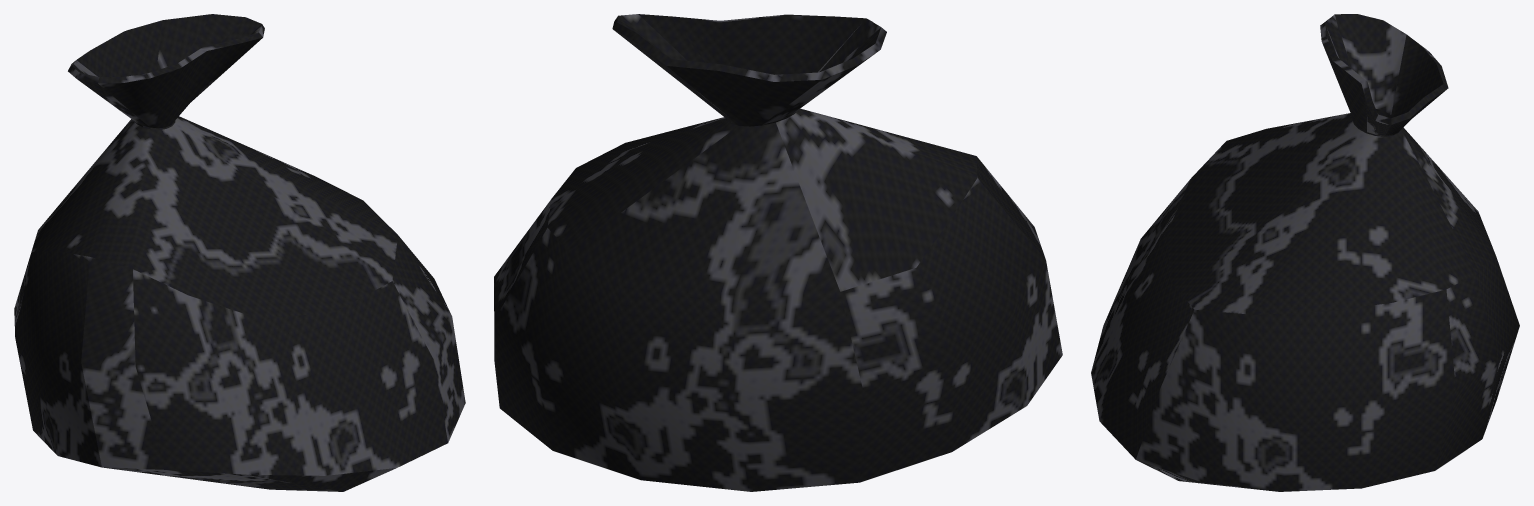
The model's file is TrashBag01.fbx.
The picture shows the model from 3 angles, left to right: view 1: azimuth 30°, elevation 25°; view 2: azimuth 150°, elevation 25°; view 3: azimuth 270°, elevation 25°; orthographic projection. The views are drawn at different scales.
Parts seen in each view (by area): view 1: TrashBag01; view 2: TrashBag01; view 3: TrashBag01.
Part boxes in pixels (left/top/right/bottom): TrashBag01: left=14, top=14, right=465, bottom=491; TrashBag01: left=494, top=14, right=1062, bottom=491; TrashBag01: left=1091, top=14, right=1519, bottom=491.
Bounding box in the file's own units: 0.6781 × 0.6076 × 0.6529.
Materials: 1 (1 with a texture image).
